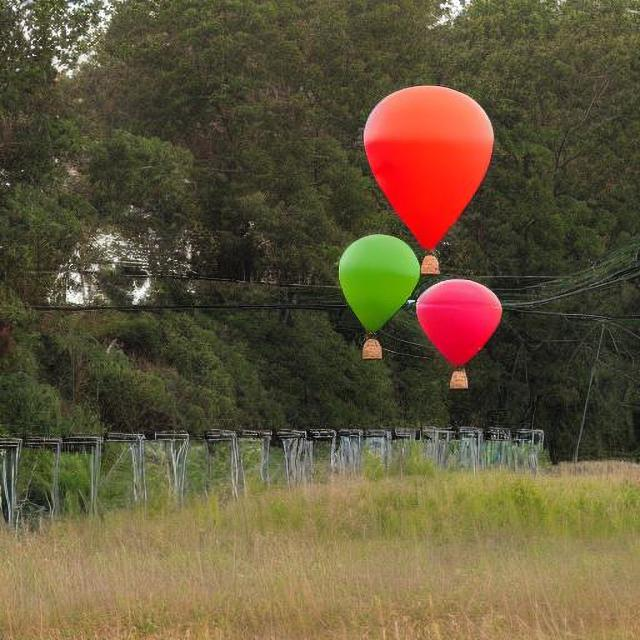balloon: (344, 76, 526, 235), (316, 233, 429, 344), (409, 274, 507, 400)
